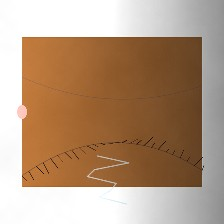foreign_body_visible: (75, 124, 102, 146)
